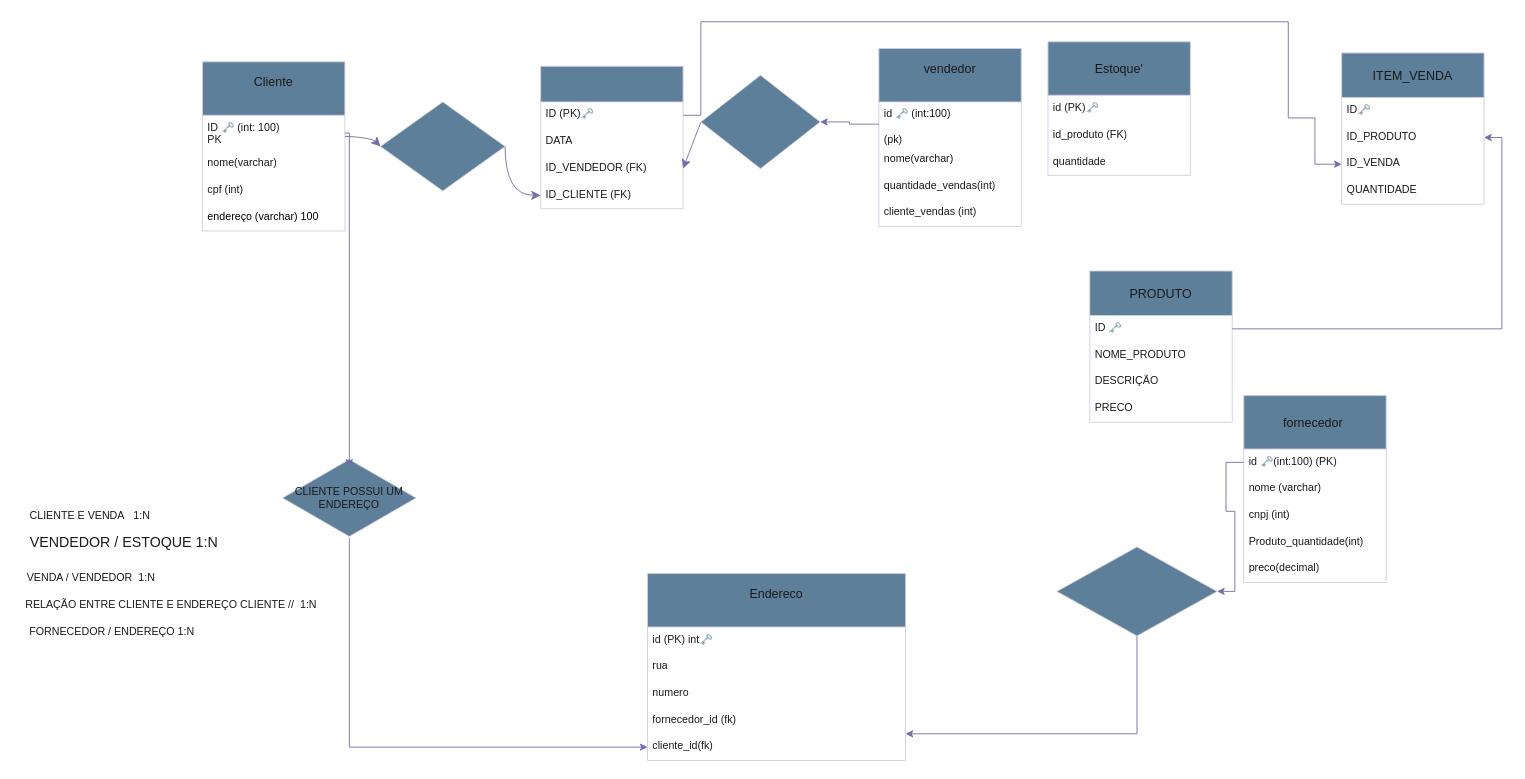
The diagram is 1525 pixels wide and 779 high, and some of its shapes have lost their labels. The shapes that lost their labels are listed below. From the top down, each one's box as (x1, y1, x2, y2) in pixels, then its label:
(540, 65, 683, 209): VENDA
(700, 74, 820, 169): VENDEDOR FAZ UMA VENDA
(380, 101, 505, 191): CLIENTE REALIZA UMA COMPRA
(1056, 546, 1217, 636): REGISTRO DE RESIDENCIA FORNECEDOR
